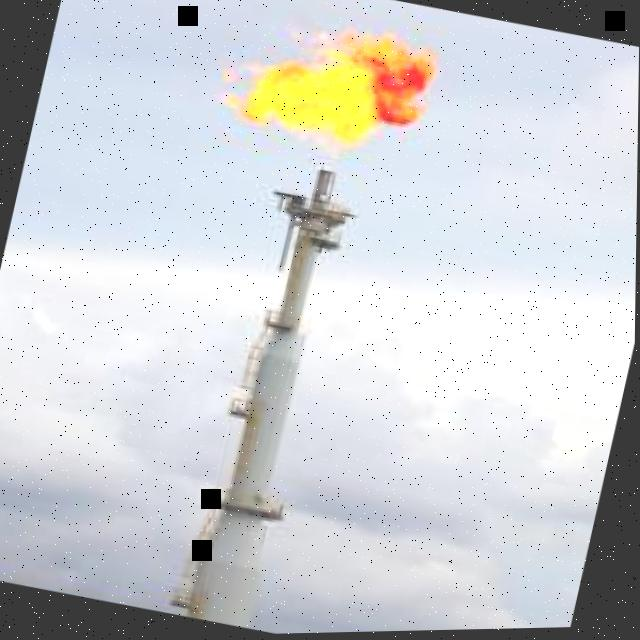fire: (220, 26, 438, 151)
